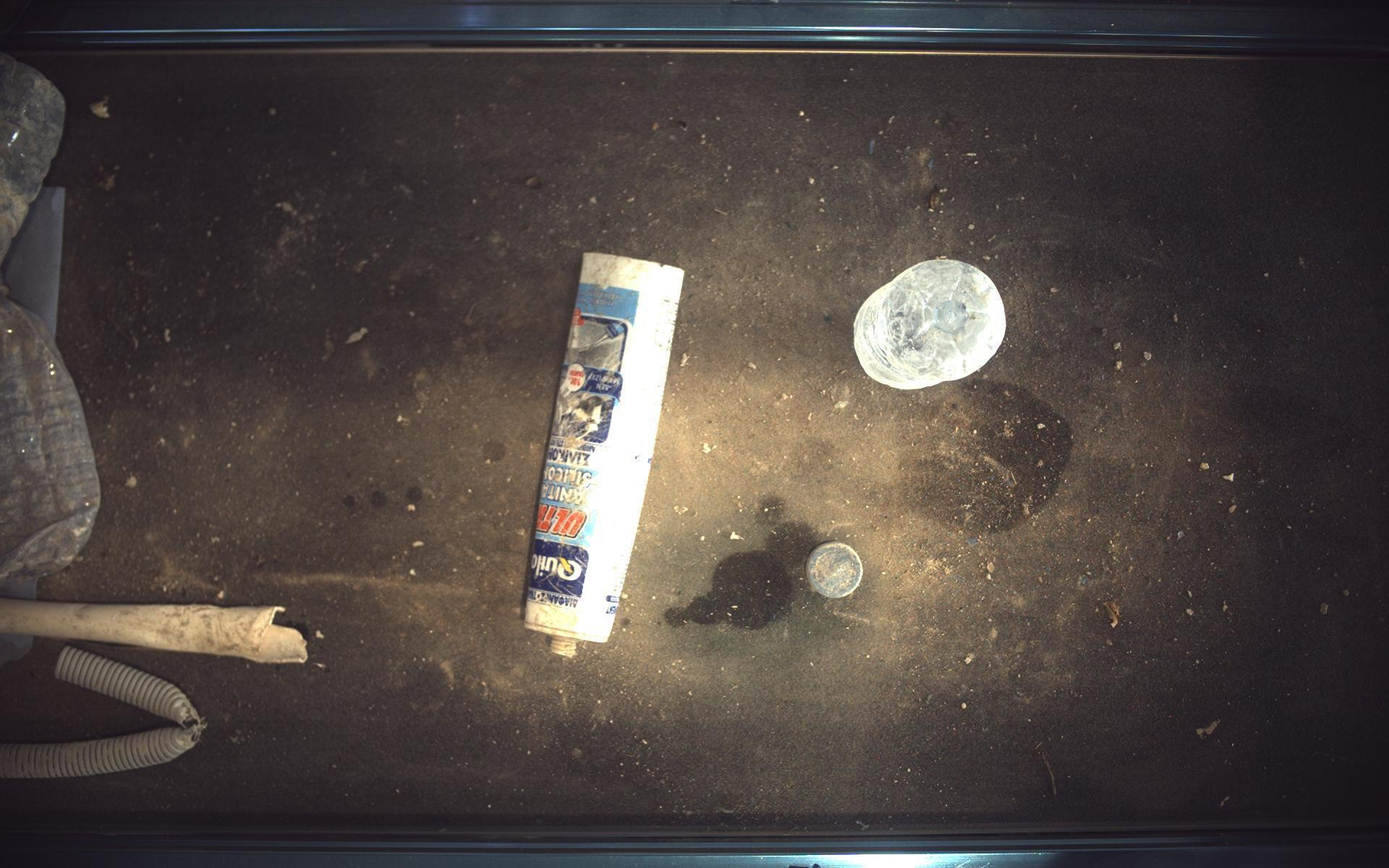general_w: (856, 258, 1008, 389)
plastic: (525, 252, 685, 658)
